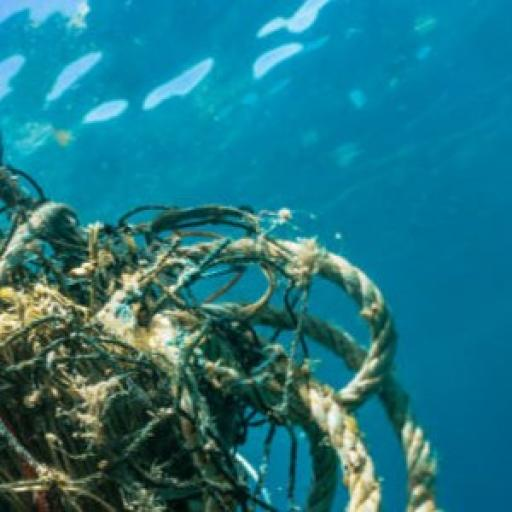net: (0, 145, 444, 512)
